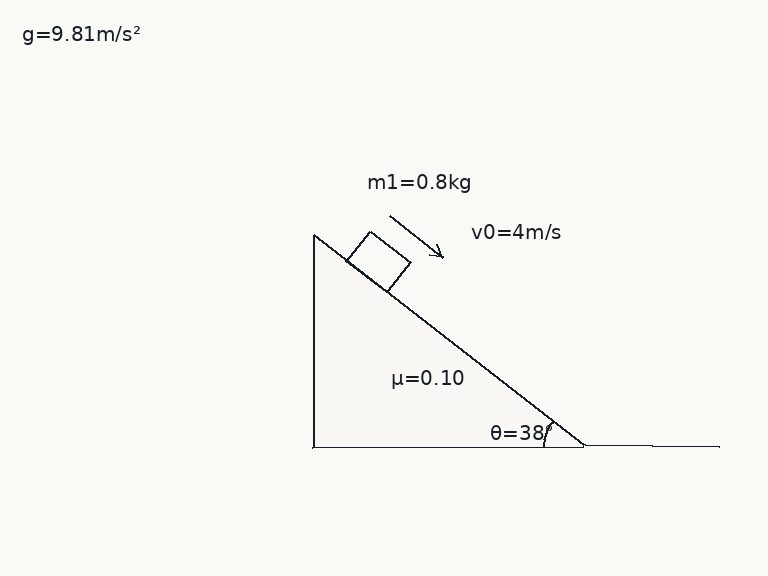block: (345, 229, 412, 294)
ramp: (311, 232, 586, 448)
